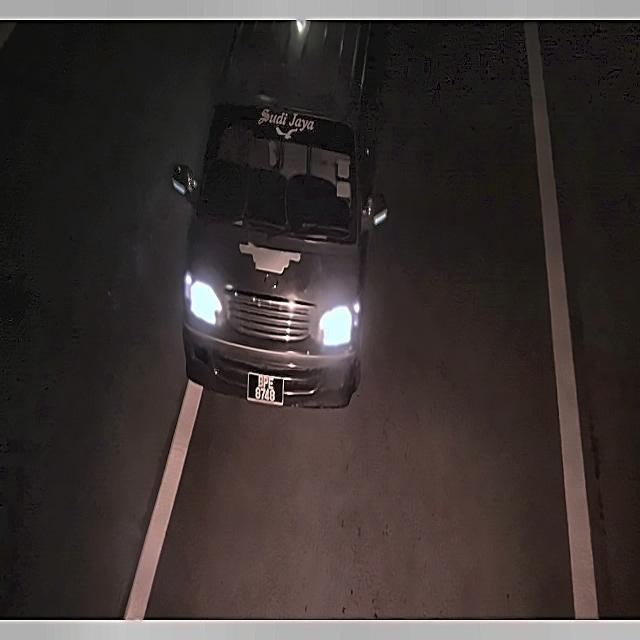car: (245, 371, 281, 406)
